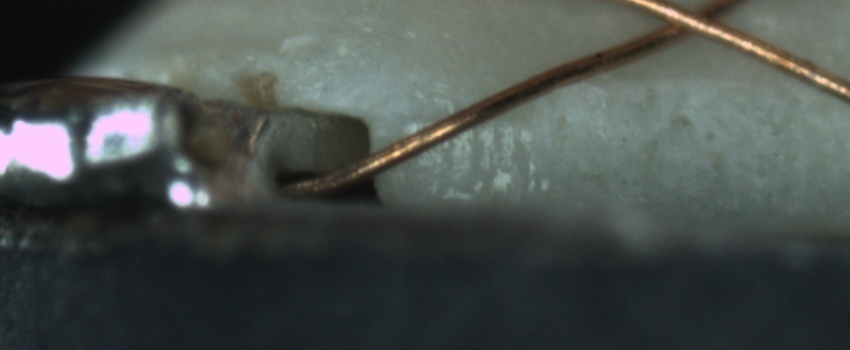CL: (637, 2, 752, 45)
DL: (574, 67, 802, 103), (401, 111, 545, 141)
